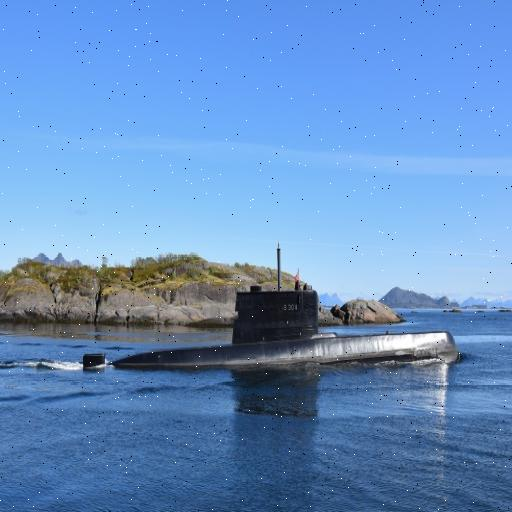submarine: (84, 293, 463, 371)
